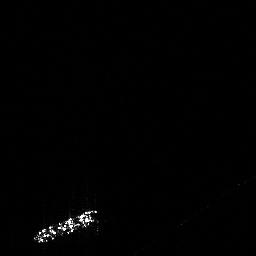ship: (32, 207, 98, 245)
